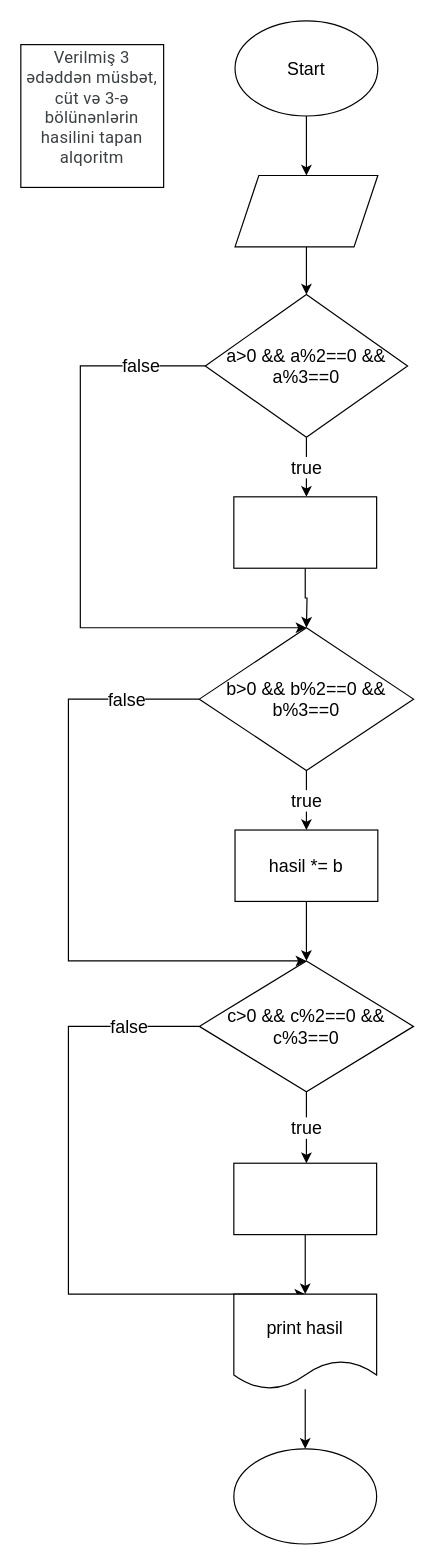
The diagram is 434 pixels wide and 1565 high, and some of its shapes have lost their labels. The box of each missing label's shape, as (x1, y1, x2, y2) in pixels:
End: (233, 1448, 377, 1544)
hasil *= a: (233, 496, 377, 568)
hasil *= c: (233, 1162, 377, 1235)
int=a,b,c int hasil=1: (234, 174, 378, 247)
